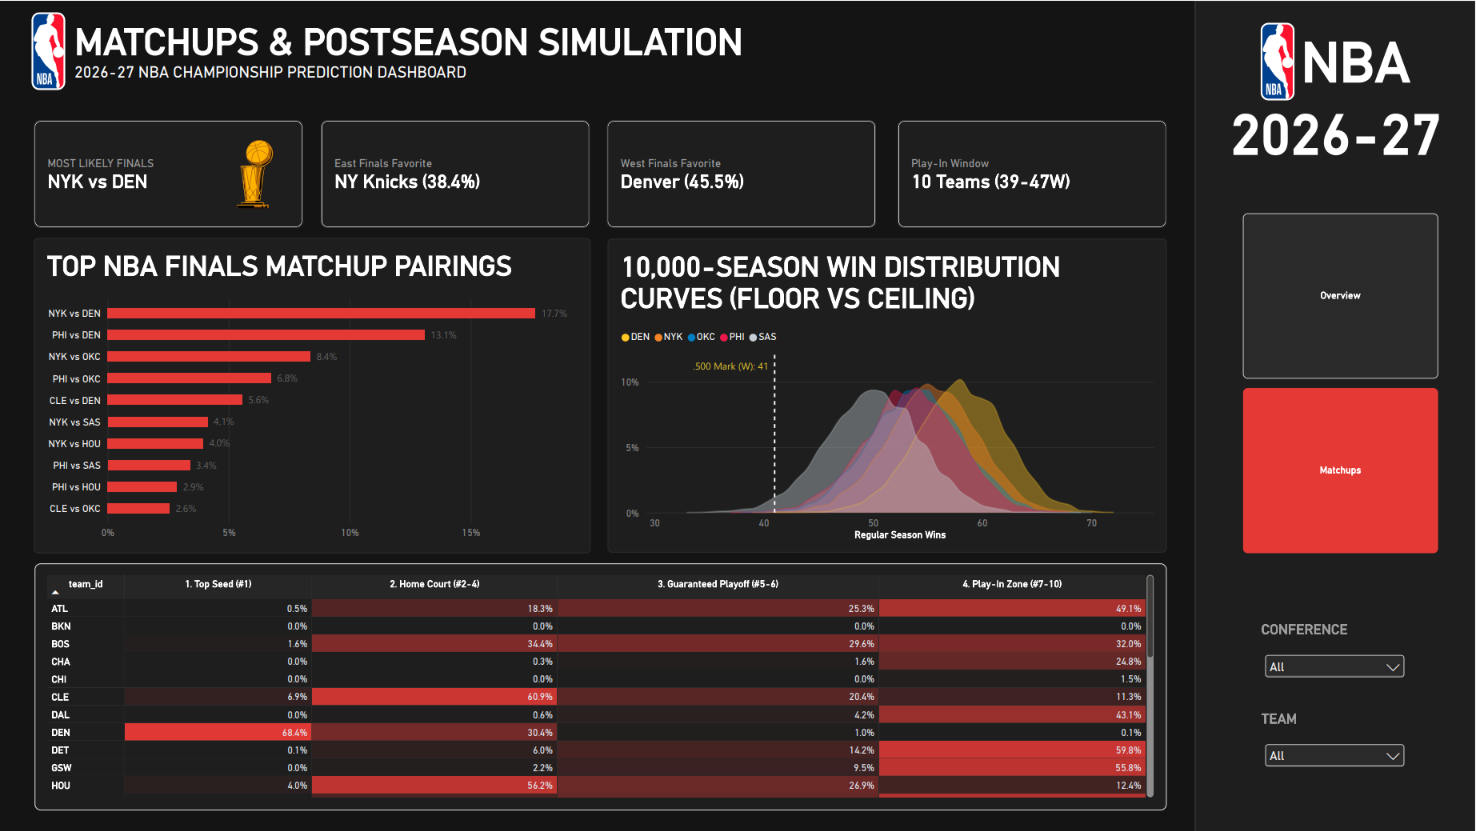

What the dashboard file says about the page in this screenshot:
{"tool":"powerbi","page":{"name":"Matchups","canvas":[1920,1080],"ordinal":1},"visuals":[{"type":"textbox","title":"MATCHUPS & POSTSEASON SIMULATION","box":[98.8,25,1227.5,80],"z":0},{"type":"image","box":[20,12.5,90,105],"z":1},{"type":"shape","box":[1556,0,364,1080],"z":2},{"type":"image","box":[1618,26,90,105],"z":3},{"type":"textbox","title":"NBA","box":[1694,38,150,80],"z":4},{"type":"textbox","title":"2026-27","box":[1602,132,302,80],"z":5},{"type":"slicer","title":"CONFERENCE","fields":{"Values":["dim_teams.conference"]},"box":[1642,806,191.4,95.7],"z":6},{"type":"slicer","title":"TEAM","fields":{"Values":["dim_teams.team_name"]},"box":[1642,922,191.4,95.7],"z":7},{"type":"pageNavigator","box":[1618.1,276.4,253.8,441.3],"z":8},{"type":"cardVisual","fields":{"Data":["_Measures.Top Finals Matchup"]},"box":[46.5,155.5,350,140],"z":9},{"type":"cardVisual","title":"\\","fields":{"Data":["_Measures.East Finals Favorite"]},"box":[419,155.5,350,140],"z":10},{"type":"cardVisual","fields":{"Data":["_Measures.West Finals Favorite"]},"box":[791.5,155.5,350,140],"z":11},{"type":"cardVisual","fields":{"Data":["_Measures.Play-In Window"]},"box":[1169,155.5,350,140],"z":12},{"type":"image","box":[310,156,47,139],"z":13},{"type":"clusteredBarChart","title":"TOP NBA FINALS MATCHUP PAIRINGS","fields":{"Category":["fact_finals_matchups.Finals Matchup"],"Y":["Sum(fact_finals_matchups.probability)"]},"box":[46,308,724,410],"z":14},{"type":"areaChart","title":"10,000-SEASON WIN DISTRIBUTION CURVES (FLOOR VS CEILING)","fields":{"Category":["fact_win_distribution.win_total"],"Series":["fact_win_distribution.team_id"],"Y":["Sum(fact_win_distribution.probability)"]},"box":[791.9,308.7,727.3,408.1],"z":15},{"type":"pivotTable","title":"CONFERENCE SEED PROBABILITIES","fields":{"Columns":["fact_seed_distribution.Postseason Tier"],"Rows":["fact_seed_distribution.team_id"],"Values":["Sum(fact_seed_distribution.probability)"]},"box":[47.1,730.8,1472.1,320.9],"z":16}]}

Visuals, with their boxes in screenshot pixels (x1, y1, x2, y2), scaled from the page's 1920x1080 canvas onto the 1476x831 screenshot:
"MATCHUPS & POSTSEASON SIMULATION" textbox: <box>76,19,1020,81</box>
image: <box>15,10,85,90</box>
shape: <box>1196,0,1475,830</box>
image: <box>1244,20,1313,101</box>
"NBA" textbox: <box>1302,29,1418,91</box>
"2026-27" textbox: <box>1232,102,1464,163</box>
"CONFERENCE" slicer: <box>1262,620,1409,694</box>
"TEAM" slicer: <box>1262,709,1409,783</box>
pageNavigator: <box>1244,213,1439,552</box>
cardVisual - _Measures.Top Finals Matchup: <box>36,120,305,227</box>
"\" cardVisual: <box>322,120,591,227</box>
cardVisual - _Measures.West Finals Favorite: <box>608,120,878,227</box>
cardVisual - _Measures.Play-In Window: <box>899,120,1168,227</box>
image: <box>238,120,274,227</box>
"TOP NBA FINALS MATCHUP PAIRINGS" clusteredBarChart: <box>35,237,592,552</box>
"10,000-SEASON WIN DISTRIBUTION CURVES (FLOOR VS CEILING)" areaChart: <box>609,238,1168,552</box>
"CONFERENCE SEED PROBABILITIES" pivotTable: <box>36,562,1168,809</box>
